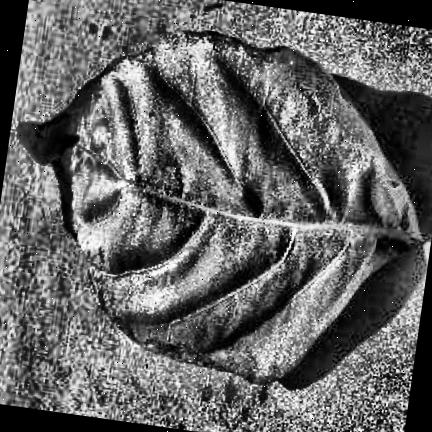leaf: (17, 31, 417, 383)
